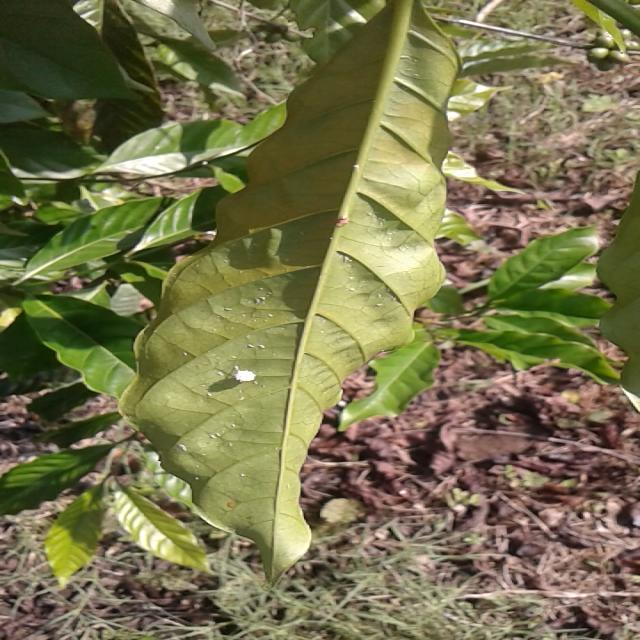Enfermedad-Roya: (119, 0, 459, 579)
